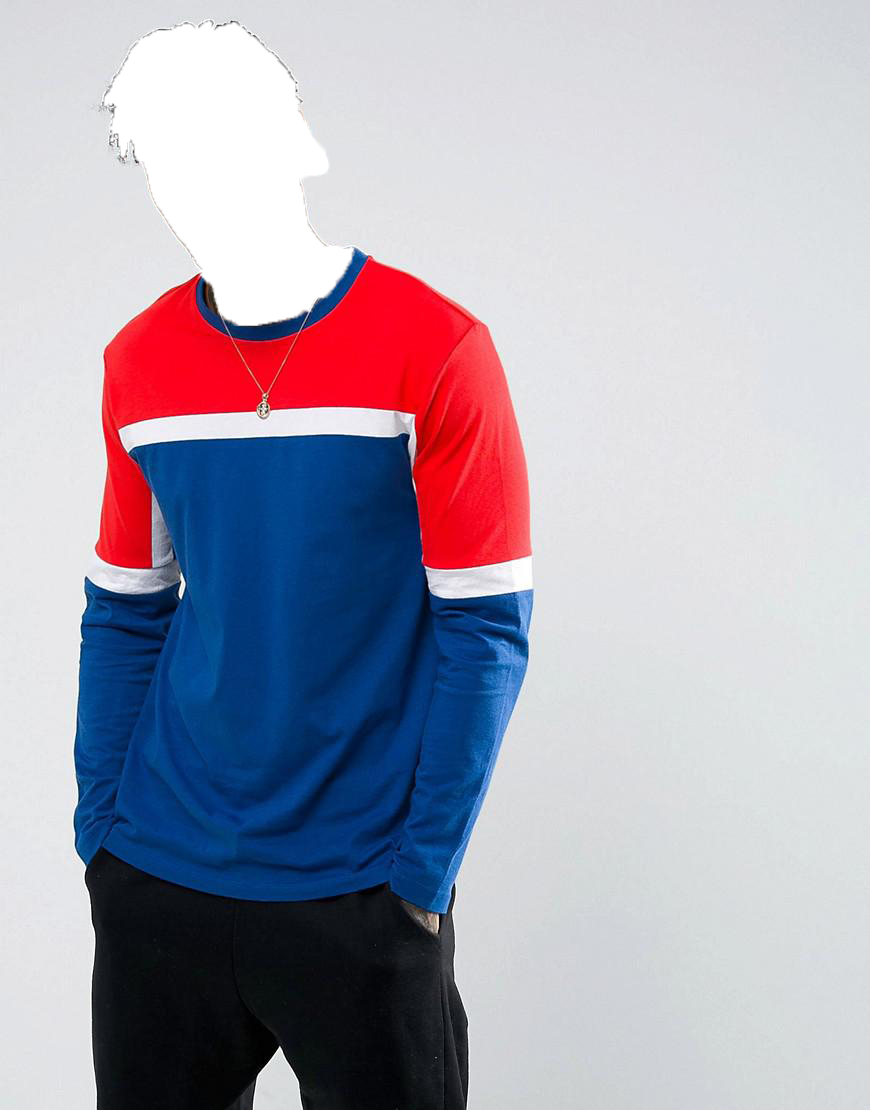teeshirt: (51, 247, 544, 929)
